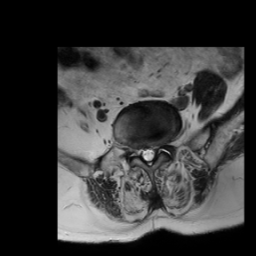CCS_normal: (145, 142, 151, 170)
LFS_severe_stenosis: (157, 137, 164, 153)
LLS_normal: (151, 141, 157, 161)
RFS_normal: (133, 142, 139, 160)
RLS_normal: (139, 142, 145, 164)
